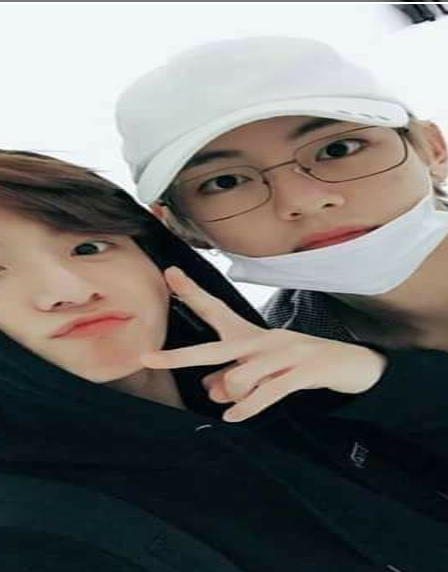mask_weared_incorrect: (121, 33, 445, 299)
